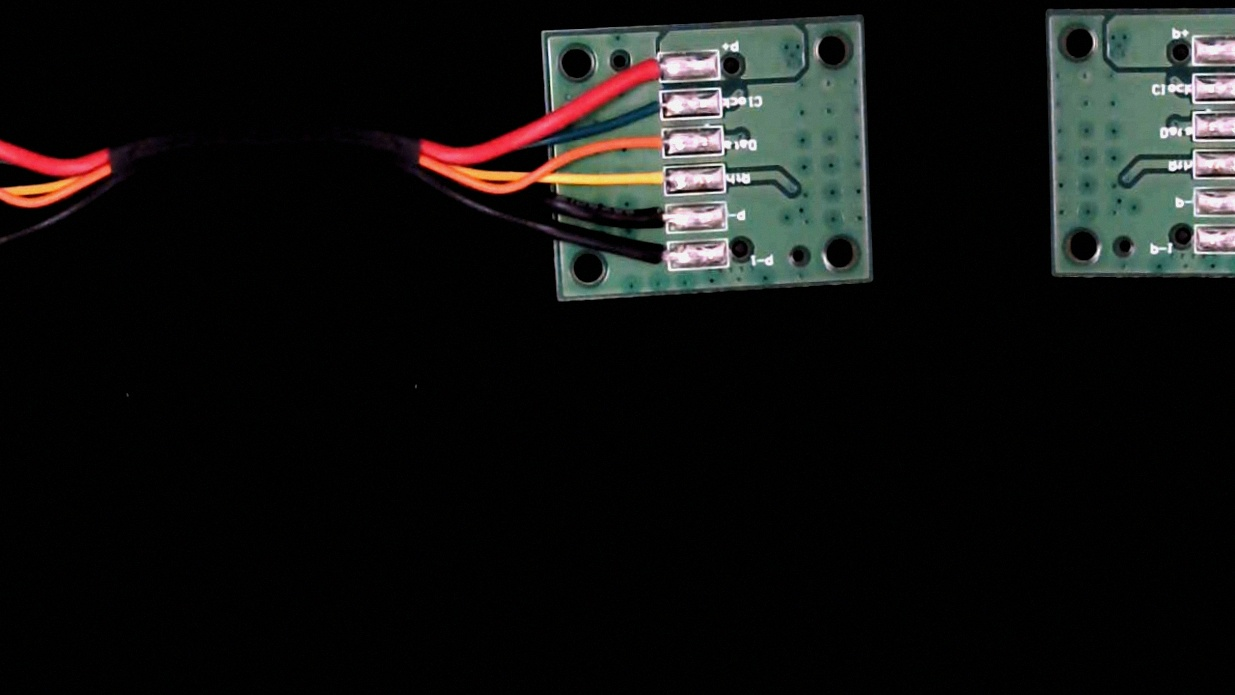Black: (622, 203, 683, 233)
Black1: (621, 241, 687, 275)
Green: (623, 90, 677, 123)
Orange: (618, 127, 680, 161)
Red: (607, 51, 675, 86)
Yellow: (618, 164, 681, 198)
